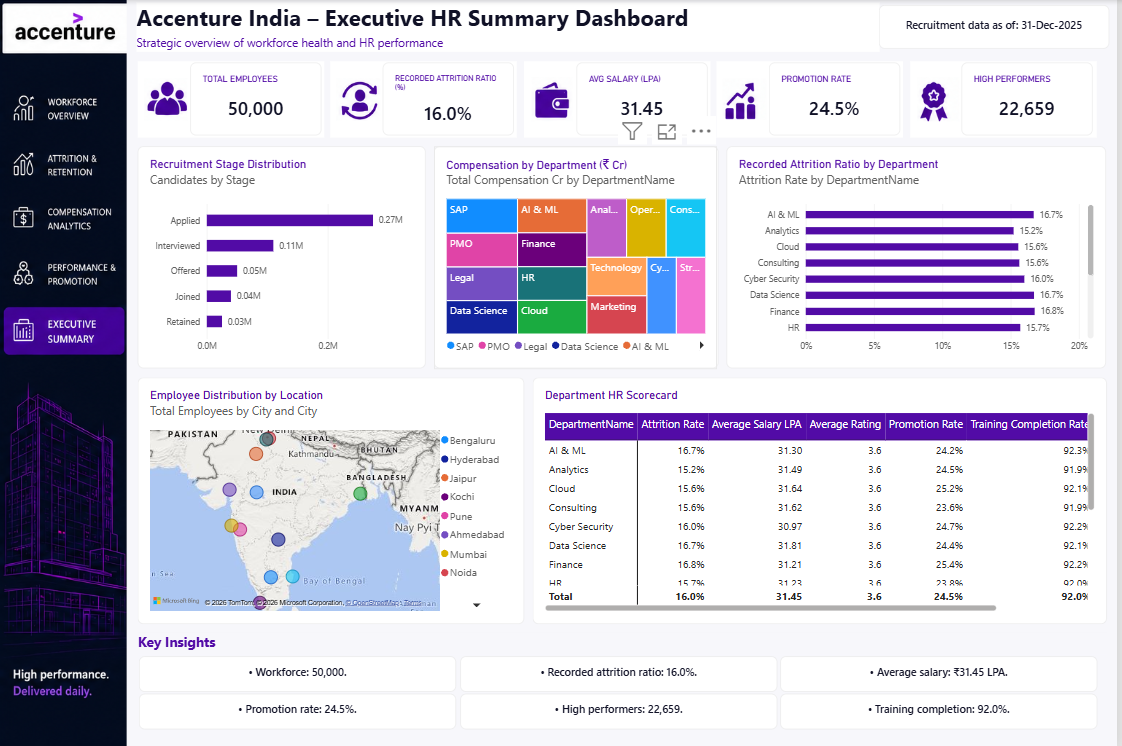

The page's visual inventory and layout, read from the dashboard file:
{"tool":"powerbi","page":{"name":"Executive Summary","canvas":[1536,1024],"ordinal":4},"visuals":[{"type":"textbox","box":[175,0,1361,1024],"z":1},{"type":"image","box":[0,0,175,1024],"z":2},{"type":"textbox","box":[188,4,1020,43],"z":8},{"type":"textbox","box":[188,46,1020,25],"z":9},{"type":"card","fields":{"Values":["DimEmployee.Reporting Date Label"]},"box":[1208,7,316,60],"z":10},{"type":"textbox","box":[190,84,256,105],"z":11},{"type":"image","box":[199,107,60,60],"z":12},{"type":"card","title":"TOTAL EMPLOYEES","fields":{"Values":["DimEmployee.Total Employees"]},"box":[262,86,180,100],"z":13},{"type":"textbox","box":[455,84,256,105],"z":14},{"type":"image","box":[464,107,60,60],"z":15},{"type":"card","title":"RECORDED ATTRITION RATIO (%)","fields":{"Values":["DimEmployee.Attrition Rate"]},"box":[527,86,180,100],"z":16},{"type":"textbox","box":[720,84,256,105],"z":17},{"type":"image","box":[729,107,60,60],"z":18},{"type":"card","title":"AVG SALARY (LPA)","fields":{"Values":["DimEmployee.Average Salary LPA"]},"box":[792,86,180,100],"z":19},{"type":"textbox","box":[985,84,256,105],"z":20},{"type":"image","box":[994,107,60,60],"z":21},{"type":"card","title":"PROMOTION RATE","fields":{"Values":["DimEmployee.Promotion Rate"]},"box":[1057,86,180,100],"z":22},{"type":"textbox","box":[1250,84,256,105],"z":23},{"type":"image","box":[1259,107,60,60],"z":24},{"type":"card","title":"HIGH PERFORMERS","fields":{"Values":["DimEmployee.High Performers"]},"box":[1322,86,180,100],"z":25},{"type":"clusteredBarChart","title":"Recruitment Stage Distribution","fields":{"Category":["FactRecruitment.Stage"],"Y":["DimEmployee.Candidates"]},"box":[190,201,395,305],"z":26},{"type":"treemap","title":"Compensation by Department (₹ Cr)","fields":{"Group":["DimDepartment.DepartmentName"],"Values":["DimEmployee.Total Compensation Cr"]},"box":[597,201,390,305],"z":27},{"type":"clusteredBarChart","title":"Recorded Attrition Ratio by Department","fields":{"Category":["DimDepartment.DepartmentName"],"Y":["DimEmployee.Attrition Rate"]},"box":[999,201,521,305],"z":28},{"type":"map","title":"Employee Distribution by Location","fields":{"Category":["DimLocation.City"],"Size":["DimEmployee.Total Employees"],"Series":["DimLocation.City"]},"box":[190,518,530,338],"z":29},{"type":"pivotTable","title":"Department HR Scorecard","fields":{"Rows":["DimDepartment.DepartmentName"],"Values":["DimEmployee.Attrition Rate","DimEmployee.Average Salary LPA","DimEmployee.Average Rating","DimEmployee.Promotion Rate","DimEmployee.Training Completion Rate","DimEmployee.High Performers"]},"box":[732,518,788,338],"z":30},{"type":"textbox","box":[190,868,1330,30],"z":31},{"type":"card","fields":{"Values":["DimEmployee.E Insight 1"]},"box":[193,900,435,49],"z":32},{"type":"card","fields":{"Values":["DimEmployee.E Insight 2"]},"box":[633,900,435,49],"z":33},{"type":"card","fields":{"Values":["DimEmployee.E Insight 3"]},"box":[1073,900,435,49],"z":34},{"type":"card","fields":{"Values":["DimEmployee.E Insight 4"]},"box":[193,952,435,49],"z":35},{"type":"card","fields":{"Values":["DimEmployee.E Insight 5"]},"box":[633,952,435,49],"z":36},{"type":"card","fields":{"Values":["DimEmployee.E Insight 6"]},"box":[1073,952,435,49],"z":37},{"type":"actionButton","box":[4,115,170,64],"z":902},{"type":"actionButton","box":[4,190,170,64],"z":903},{"type":"actionButton","box":[4,265,170,64],"z":904},{"type":"actionButton","box":[4,340,170,64],"z":905},{"type":"actionButton","box":[4,415,170,64],"z":906}]}

Visuals, with their boxes on the page's 1536x1024 design canvas (x1, y1, x2, y2). These are canvas units, not pixel positions in the 1122x746 screenshot, which may show the page scaled, cropped or inside an application window:
textbox: box(175, 0, 1536, 1024)
image: box(0, 0, 175, 1024)
textbox: box(188, 4, 1208, 47)
textbox: box(188, 46, 1208, 71)
card - DimEmployee.Reporting Date Label: box(1208, 7, 1524, 67)
textbox: box(190, 84, 446, 189)
image: box(199, 107, 259, 167)
"TOTAL EMPLOYEES" card: box(262, 86, 442, 186)
textbox: box(455, 84, 711, 189)
image: box(464, 107, 524, 167)
"RECORDED ATTRITION RATIO (%)" card: box(527, 86, 707, 186)
textbox: box(720, 84, 976, 189)
image: box(729, 107, 789, 167)
"AVG SALARY (LPA)" card: box(792, 86, 972, 186)
textbox: box(985, 84, 1241, 189)
image: box(994, 107, 1054, 167)
"PROMOTION RATE" card: box(1057, 86, 1237, 186)
textbox: box(1250, 84, 1506, 189)
image: box(1259, 107, 1319, 167)
"HIGH PERFORMERS" card: box(1322, 86, 1502, 186)
"Recruitment Stage Distribution" clusteredBarChart: box(190, 201, 585, 506)
"Compensation by Department (₹ Cr)" treemap: box(597, 201, 987, 506)
"Recorded Attrition Ratio by Department" clusteredBarChart: box(999, 201, 1520, 506)
"Employee Distribution by Location" map: box(190, 518, 720, 856)
"Department HR Scorecard" pivotTable: box(732, 518, 1520, 856)
textbox: box(190, 868, 1520, 898)
card - DimEmployee.E Insight 1: box(193, 900, 628, 949)
card - DimEmployee.E Insight 2: box(633, 900, 1068, 949)
card - DimEmployee.E Insight 3: box(1073, 900, 1508, 949)
card - DimEmployee.E Insight 4: box(193, 952, 628, 1001)
card - DimEmployee.E Insight 5: box(633, 952, 1068, 1001)
card - DimEmployee.E Insight 6: box(1073, 952, 1508, 1001)
actionButton: box(4, 115, 174, 179)
actionButton: box(4, 190, 174, 254)
actionButton: box(4, 265, 174, 329)
actionButton: box(4, 340, 174, 404)
actionButton: box(4, 415, 174, 479)
